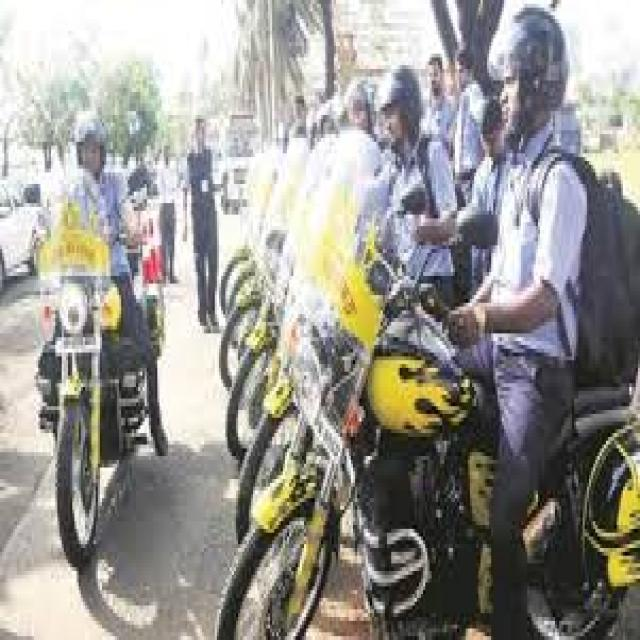motorcycle ahead at: (209, 159, 635, 640), (32, 159, 159, 547)
